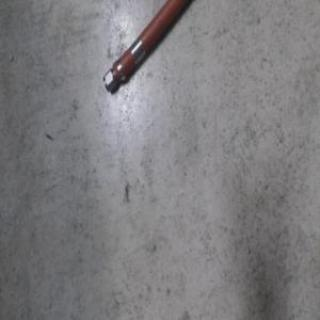Hosetrack_idkeyframe: (102, 0, 195, 95)
